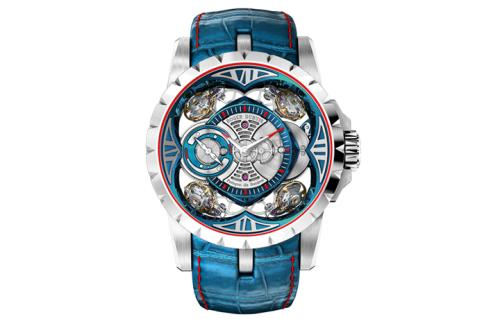watch: (143, 5, 364, 318)
